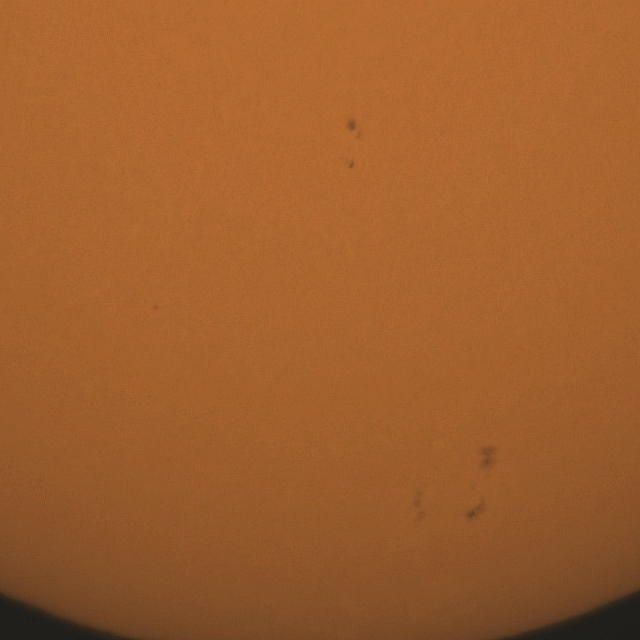sunspot: (344, 117, 363, 141), (346, 159, 356, 170)
